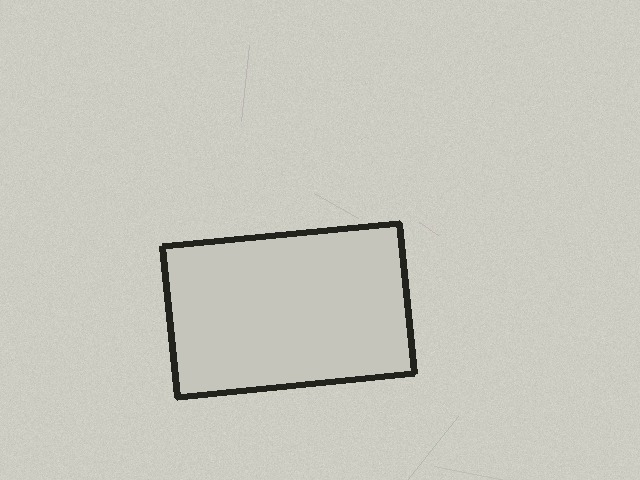parking_area: (162, 223, 414, 397)
